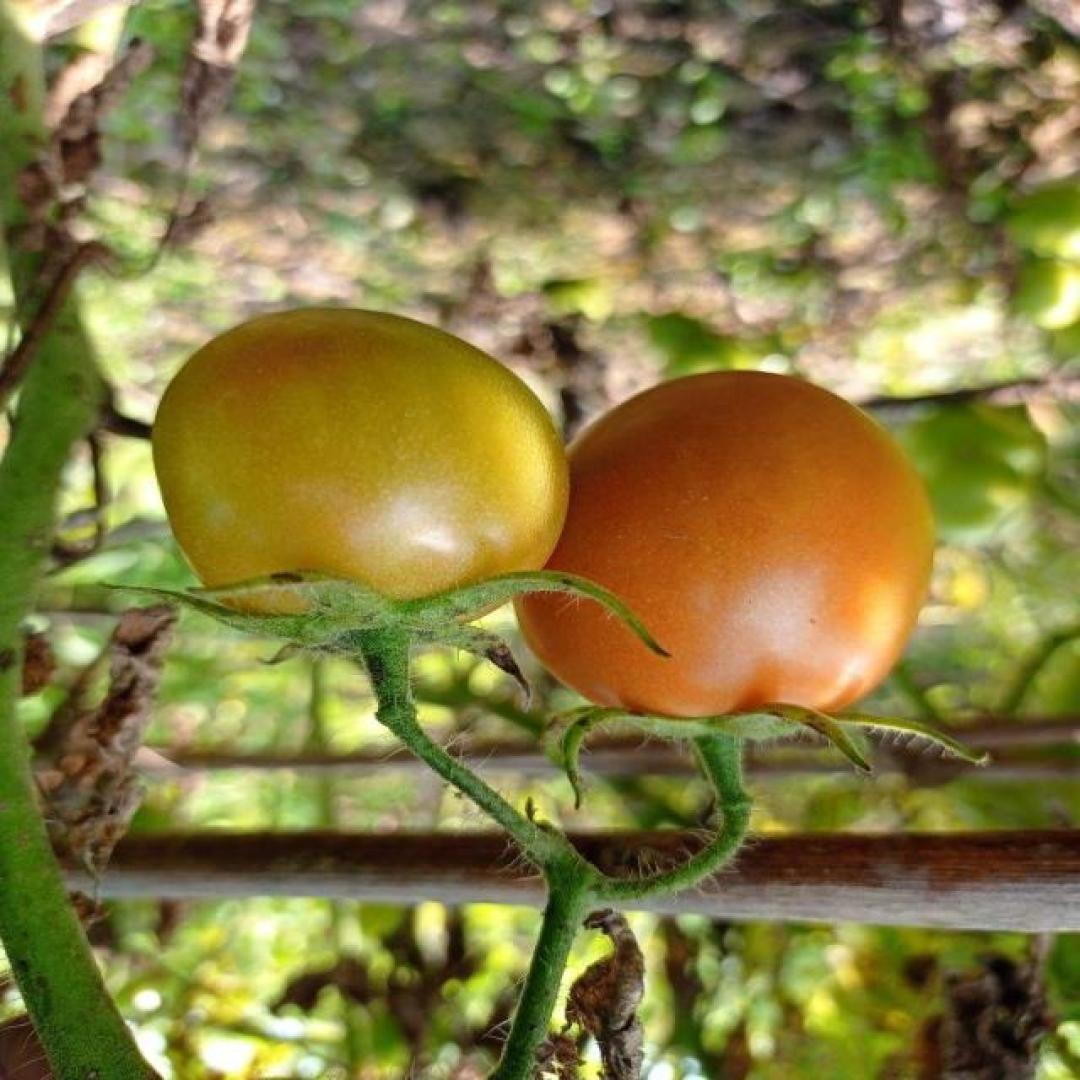setengah_matang: (510, 370, 938, 744), (148, 302, 570, 650)
